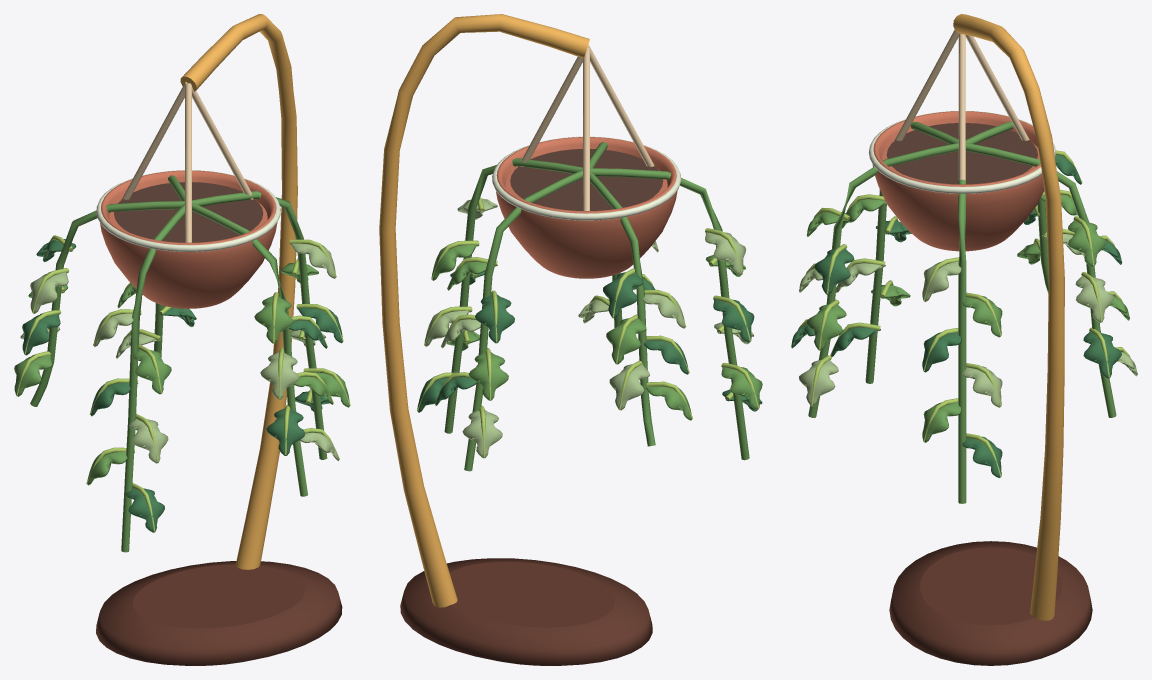
Rendered from atelier_ivy.glb.
3 views of the same model, side by side, from view 1: azimuth 30°, elevation 25°; view 2: azimuth 150°, elevation 25°; view 3: azimuth 270°, elevation 25° (orthographic). The views are drawn at different scales.
Visible parts, largest first — view 1: Hiedra colgante; view 2: Hiedra colgante; view 3: Hiedra colgante.
Part boxes in pixels (x1,y1,x2,y2): Hiedra colgante: (14, 14, 350, 665); Hiedra colgante: (379, 14, 762, 665); Hiedra colgante: (791, 14, 1137, 665).
Bounding box in the file's own units: 0.749 × 1.45 × 0.7514.
